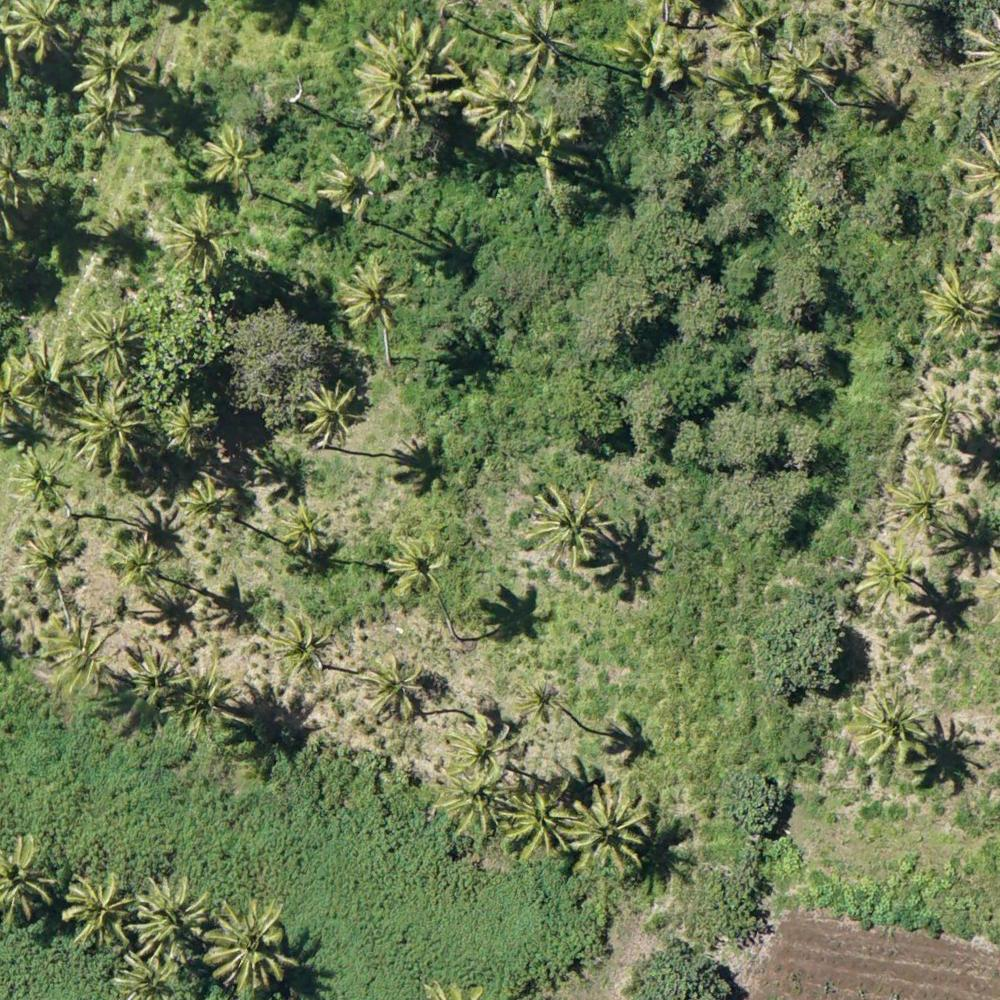Palm: (571, 778, 654, 872), (205, 905, 295, 991), (354, 39, 442, 113), (432, 769, 518, 844), (155, 199, 231, 282), (853, 691, 933, 768), (463, 66, 533, 154), (529, 476, 606, 556), (74, 32, 151, 111), (41, 619, 112, 700), (922, 264, 997, 340), (496, 1, 570, 77), (336, 260, 414, 332), (503, 782, 574, 859), (65, 872, 135, 948), (1, 835, 59, 926), (136, 879, 206, 954), (904, 389, 981, 456), (80, 391, 149, 463), (365, 654, 428, 728), (884, 471, 950, 540), (448, 715, 517, 781), (75, 308, 141, 376), (856, 543, 921, 610), (381, 533, 448, 598), (319, 158, 390, 219), (178, 661, 235, 736), (265, 613, 332, 675), (11, 454, 80, 509), (14, 528, 78, 586), (772, 43, 831, 105), (122, 649, 182, 709), (198, 127, 259, 186), (5, 1, 65, 59), (159, 405, 223, 458), (106, 534, 164, 590), (278, 498, 331, 557), (303, 386, 359, 439), (186, 477, 230, 529), (520, 681, 562, 723)
